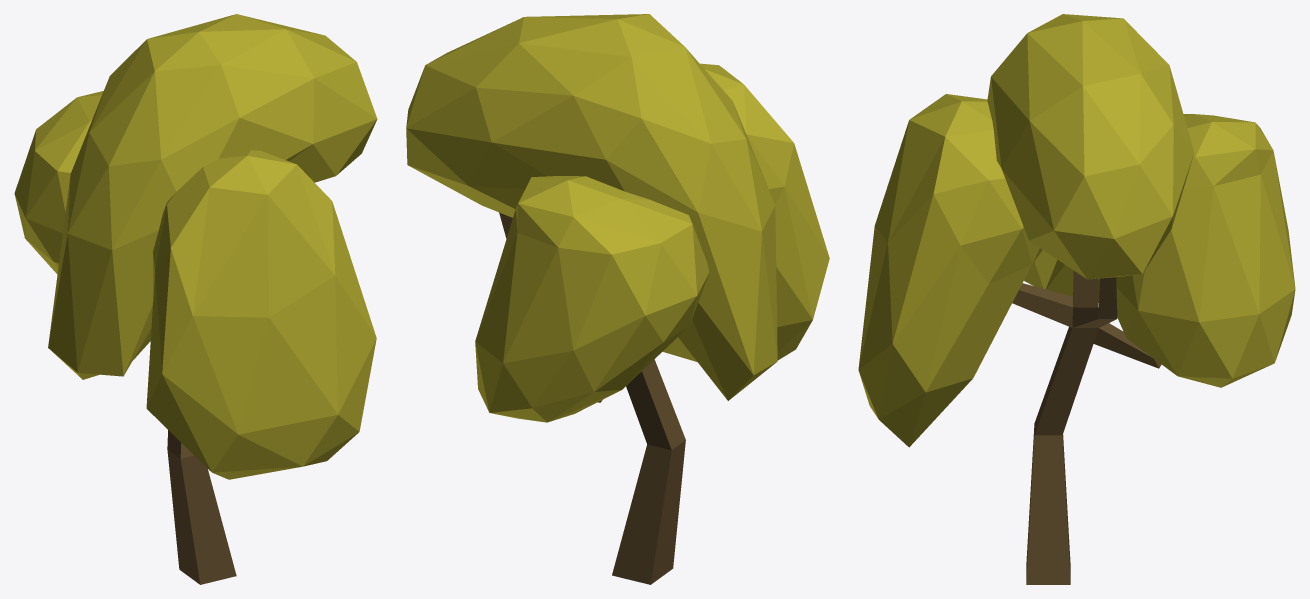
File: GrasslandsTreeType8.fbx
3 renders of one model, left to right at view 1: azimuth 30°, elevation 25°; view 2: azimuth 150°, elevation 25°; view 3: azimuth 270°, elevation 25°, orthographic. The views are drawn at different scales.
Visible parts, largest first — view 1: GrasslandsTreeType8; view 2: GrasslandsTreeType8; view 3: GrasslandsTreeType8.
Boxes of the visible parts, x1,y1,x2,y2 form: GrasslandsTreeType8: [14, 14, 377, 584]; GrasslandsTreeType8: [406, 14, 829, 584]; GrasslandsTreeType8: [858, 14, 1295, 584].
Bounding box in the file's own units: 3.83 × 6.02 × 4.27.
